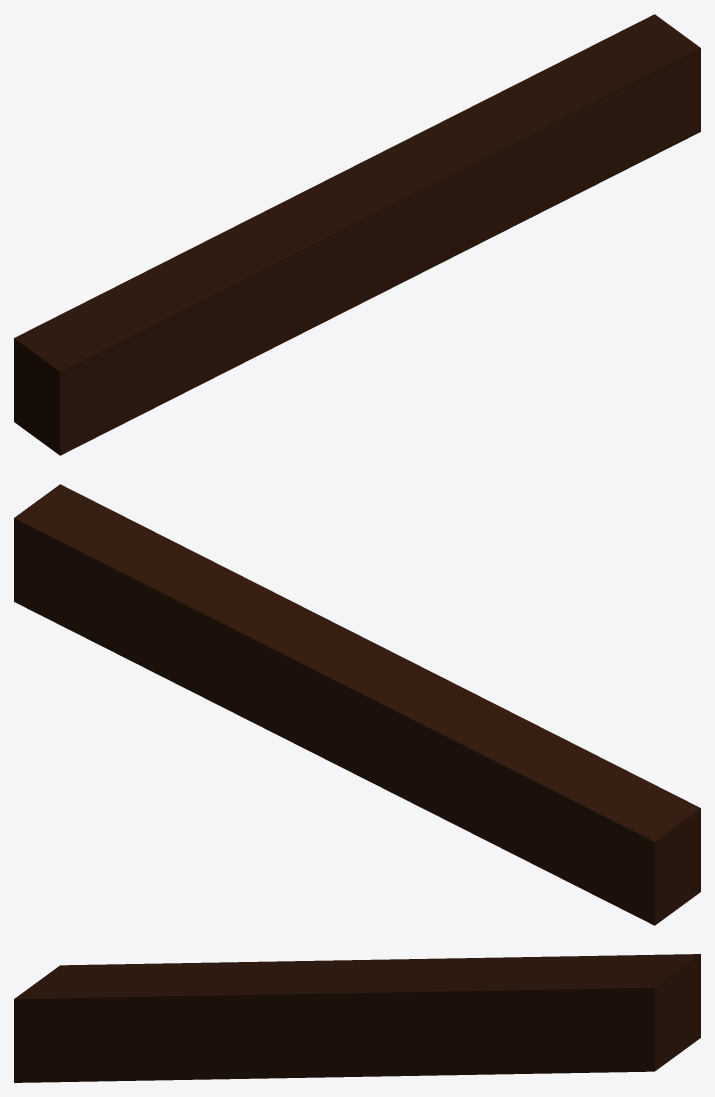
File: Railing-2x1-Cross-Bar-Ramped-Lower.FBX
3 views of the same model, one above another, from view 1: azimuth 30°, elevation 25°; view 2: azimuth 150°, elevation 25°; view 3: azimuth 330°, elevation 25° (orthographic).
Visible parts, largest first — view 1: Railing-2x1-Cross-Bar-Ramped-Lower; view 2: Railing-2x1-Cross-Bar-Ramped-Lower; view 3: Railing-2x1-Cross-Bar-Ramped-Lower.
Boxes of the visible parts, x1,y1,x2,y2 form: Railing-2x1-Cross-Bar-Ramped-Lower: (14, 14, 700, 455); Railing-2x1-Cross-Bar-Ramped-Lower: (14, 484, 700, 925); Railing-2x1-Cross-Bar-Ramped-Lower: (14, 954, 700, 1082).
Bounding box in the file's own units: 20 × 2.5 × 7.5.
